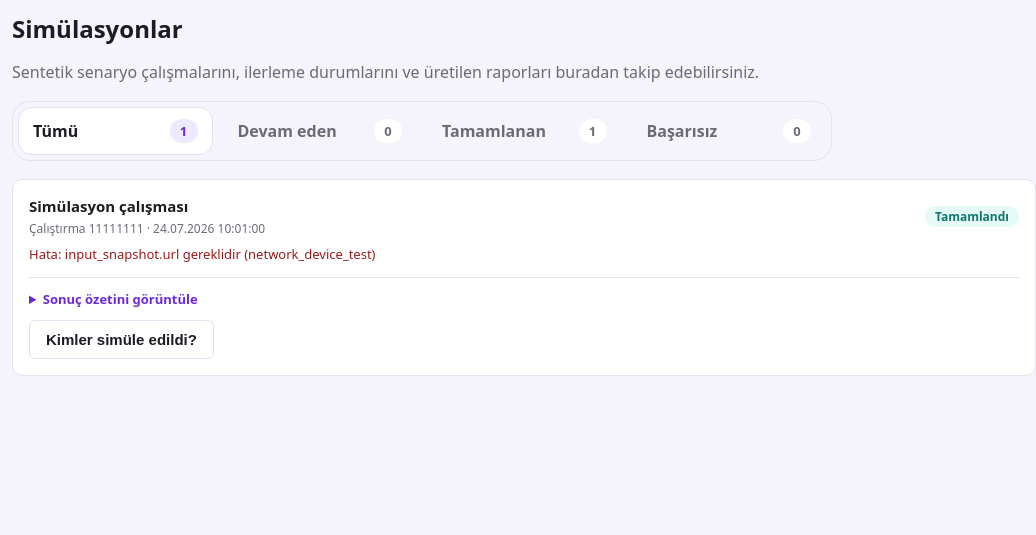
it: Simulations - 'Kimler simüle edildi?' persona paneli › API hatasinda uygun mesaji gosterir ve 'Tekrar dene' yeniden istek atar
Expected: the text "Çalıştırma 11111111 · 24.07.2026 10:01:00" is shown, [29,220,265,237]
Click the button "Kimler simüle edildi?".
click(121, 340)  # box [29,320,214,359]
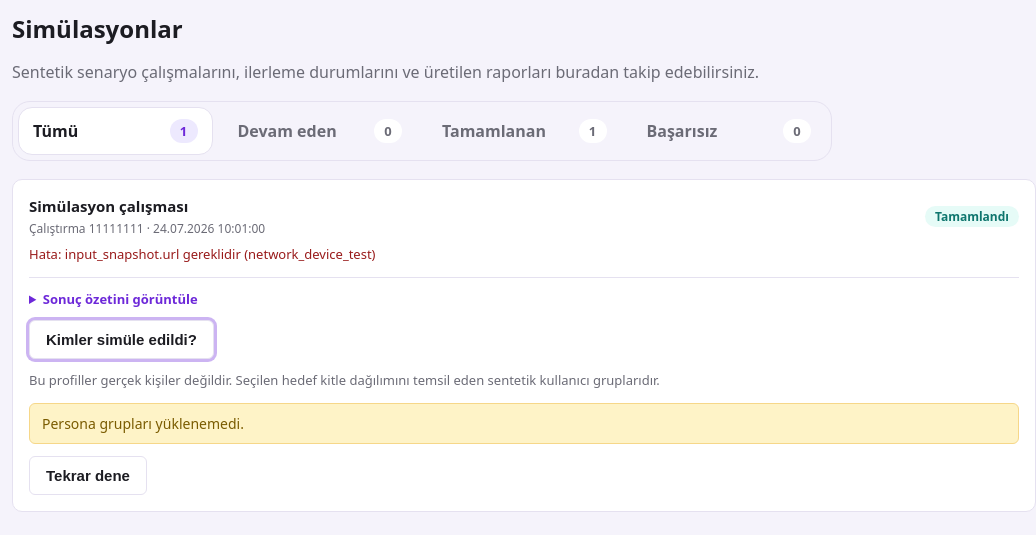
Result: the text "Persona grupları yüklenemedi." is shown at [29,403,1019,444]
Click the button "Tekrar dene".
click(88, 476)  # box [29,456,147,495]
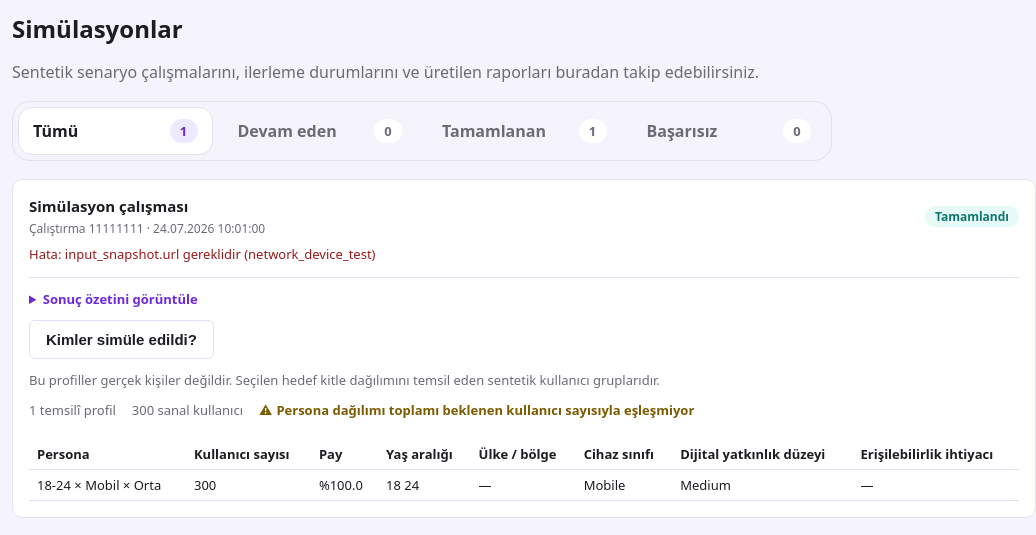
Result: the text "1 temsilî profil" is shown at [29,401,116,419]
